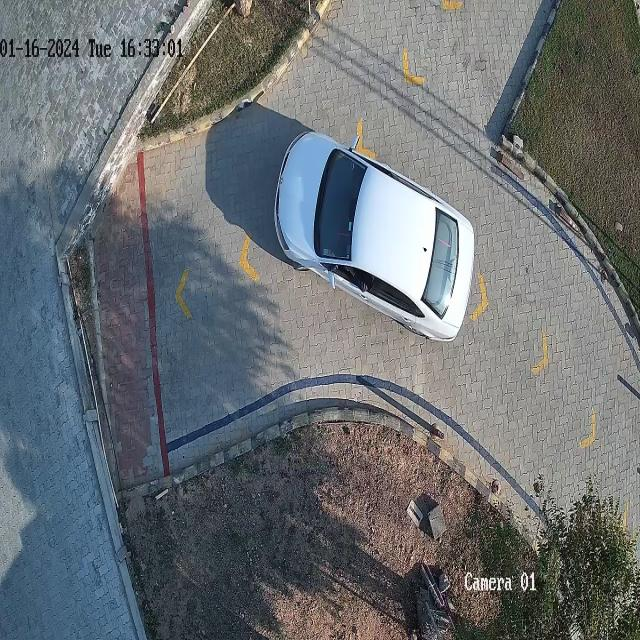car: (274, 131, 474, 340)
